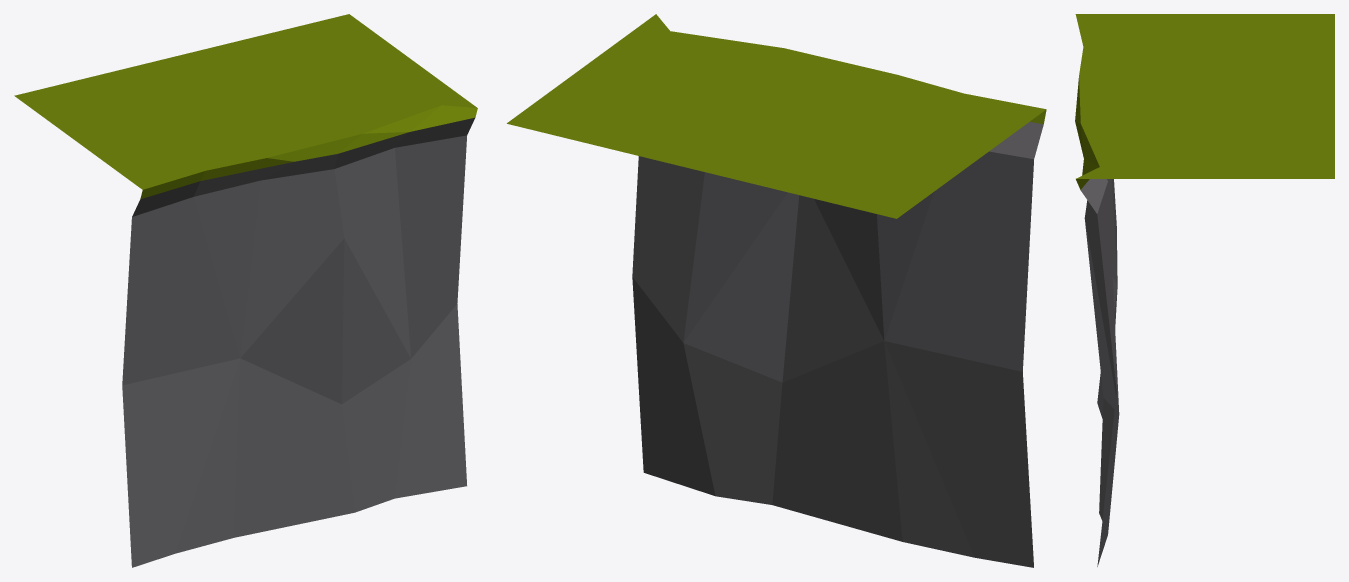
File: mesh_cliff_wall_1m_02.fbx
3 renders of one model, left to right at view 1: azimuth 30°, elevation 25°; view 2: azimuth 150°, elevation 25°; view 3: azimuth 270°, elevation 25°, orthographic. The views are drawn at different scales.
Visible parts, largest first — view 1: mesh_cliff_wall_1m_02; view 2: mesh_cliff_wall_1m_02; view 3: mesh_cliff_wall_1m_02.
Part boxes in pixels (x1,y1,x2,y2): mesh_cliff_wall_1m_02: [14, 14, 477, 567]; mesh_cliff_wall_1m_02: [507, 14, 1046, 567]; mesh_cliff_wall_1m_02: [1075, 14, 1334, 566].
Bounding box in the file's own units: 200 × 220 × 133.
